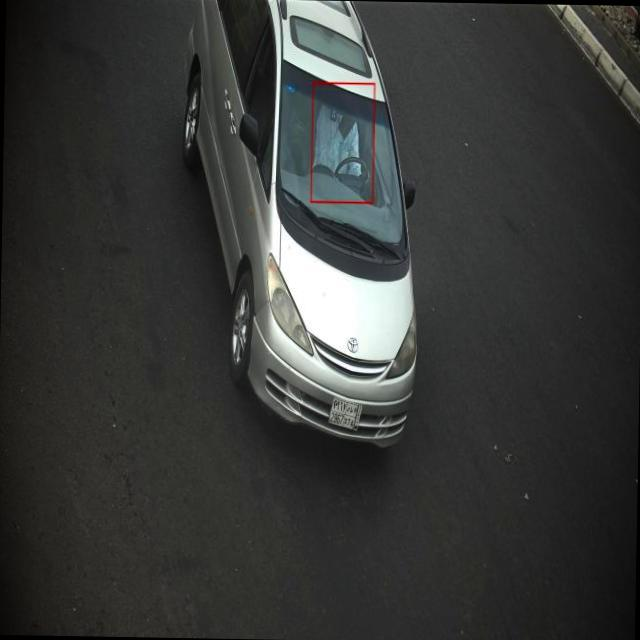person_without_seatbelt: (306, 98, 382, 201)
